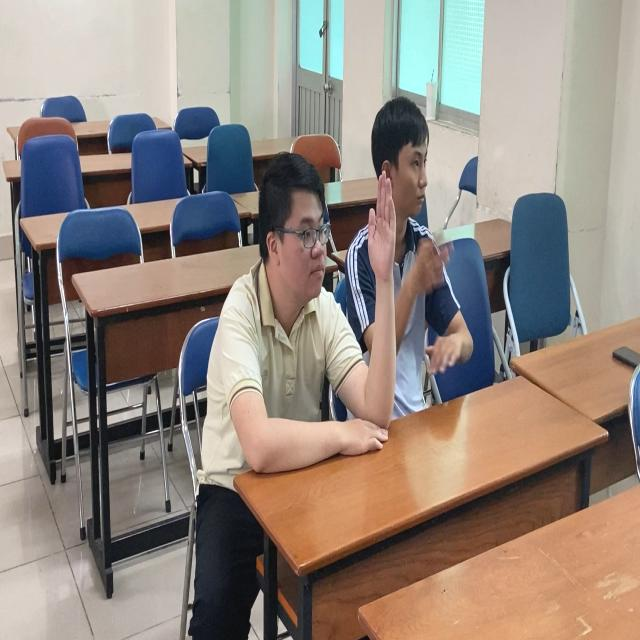raise_hand: (230, 153, 397, 481)
